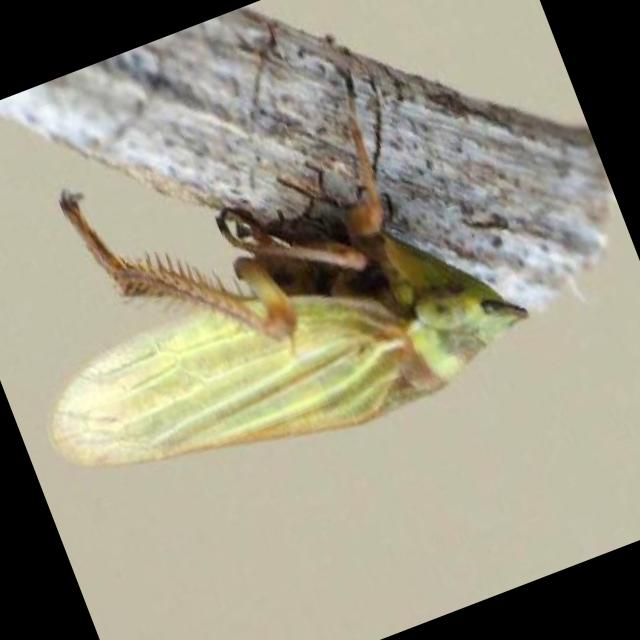green-leafhopper: (41, 76, 524, 472)
